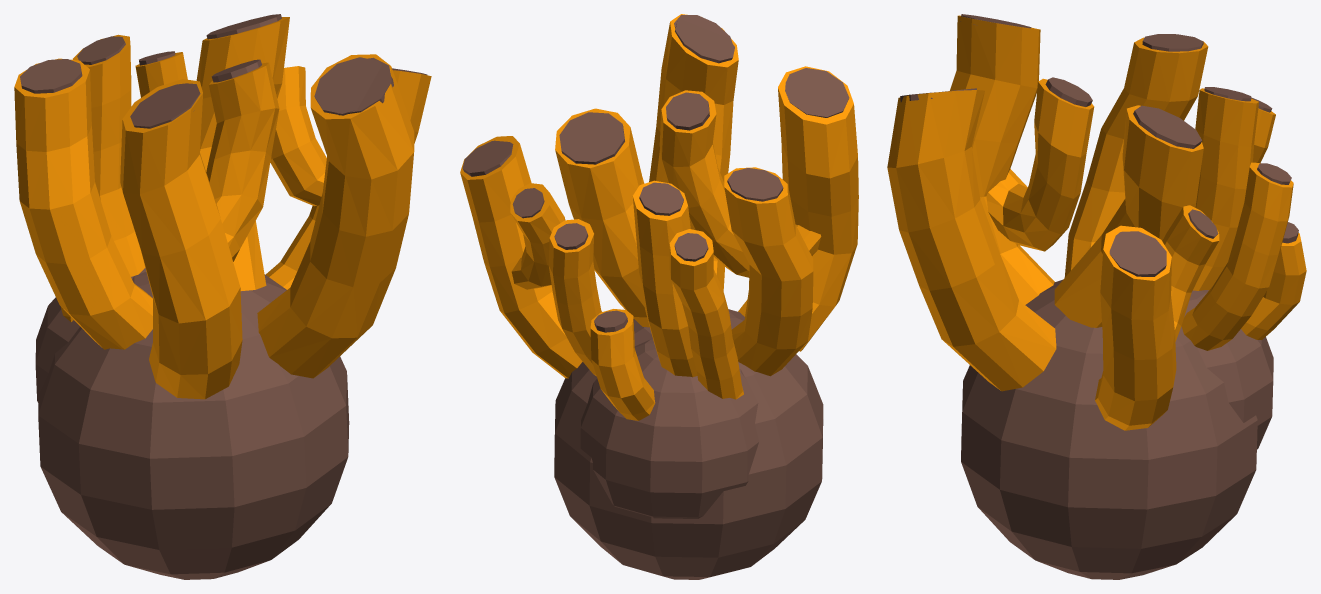
3 renders of one model, left to right at view 1: azimuth 30°, elevation 25°; view 2: azimuth 150°, elevation 25°; view 3: azimuth 270°, elevation 25°, orthographic. The views are drawn at different scales.
Parts seen in each view (by area): view 1: model; view 2: model; view 3: model.
Boxes of the visible parts, <box> form: model: <box>14,14,431,579</box>; model: <box>460,14,858,579</box>; model: <box>887,14,1306,579</box>.
Size of what is drawn, in the model's own units: 17.81 by 16.87 by 23.21.
